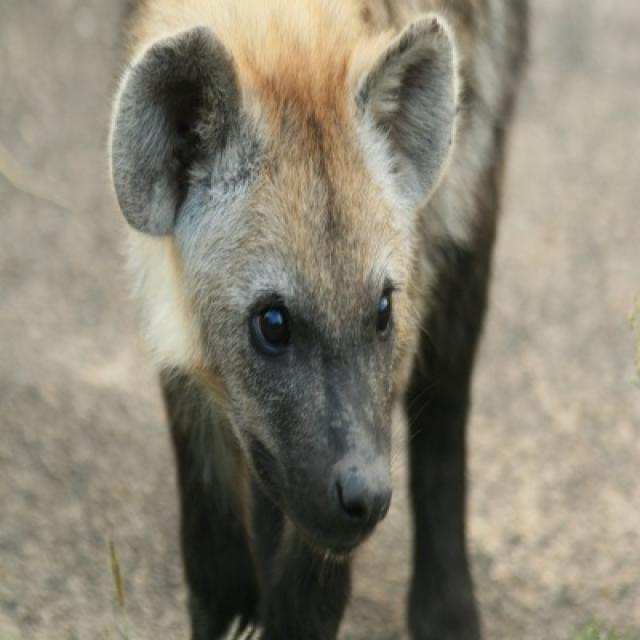hyena: (106, 0, 531, 638)
